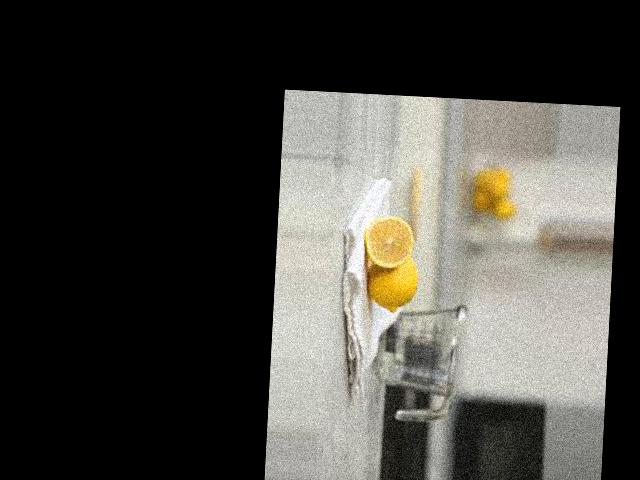lemon: (358, 246, 422, 324)
